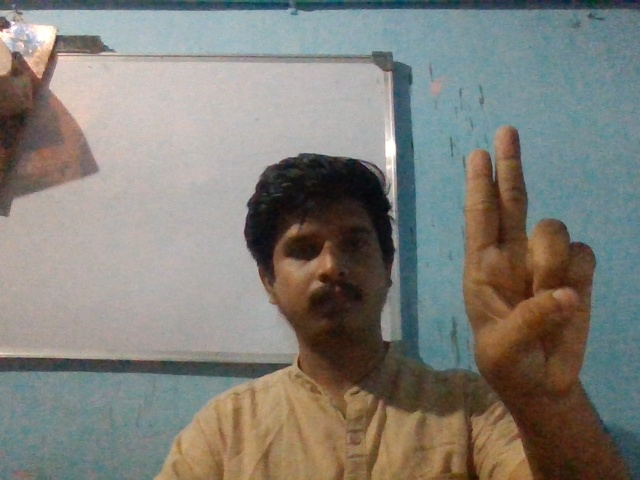Prana: (456, 115, 601, 400)
